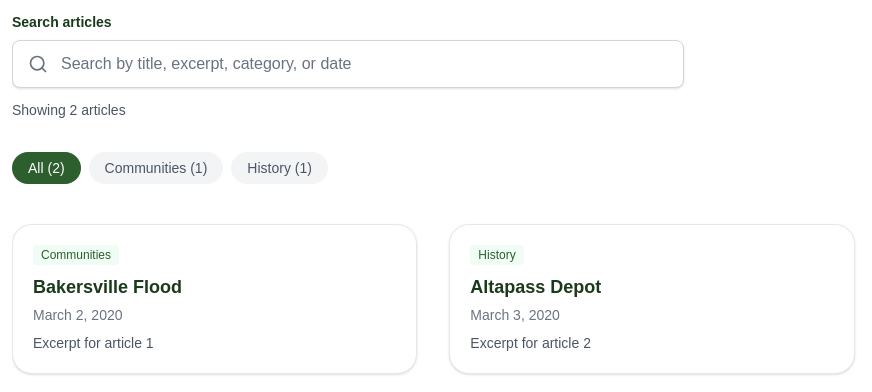
ArticlesList › filters by search query and updates the live result count
Type "altapass" into the search field labelled "Search articles" at point(348, 64), box [12,40,684,88]
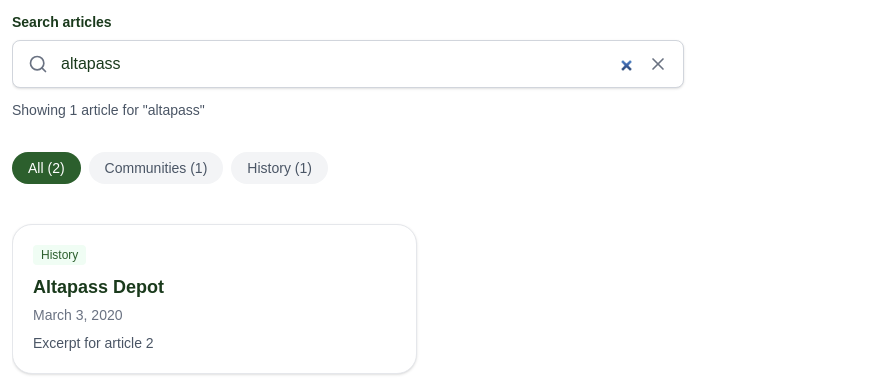
Expected: the heading "Altapass Depot" is shown, [33,277,164,297]
Result: the link "Bakersville Flood" is gone
Result: the text "Showing 1 article for \"altapass\"" is shown at [12,102,205,118]
